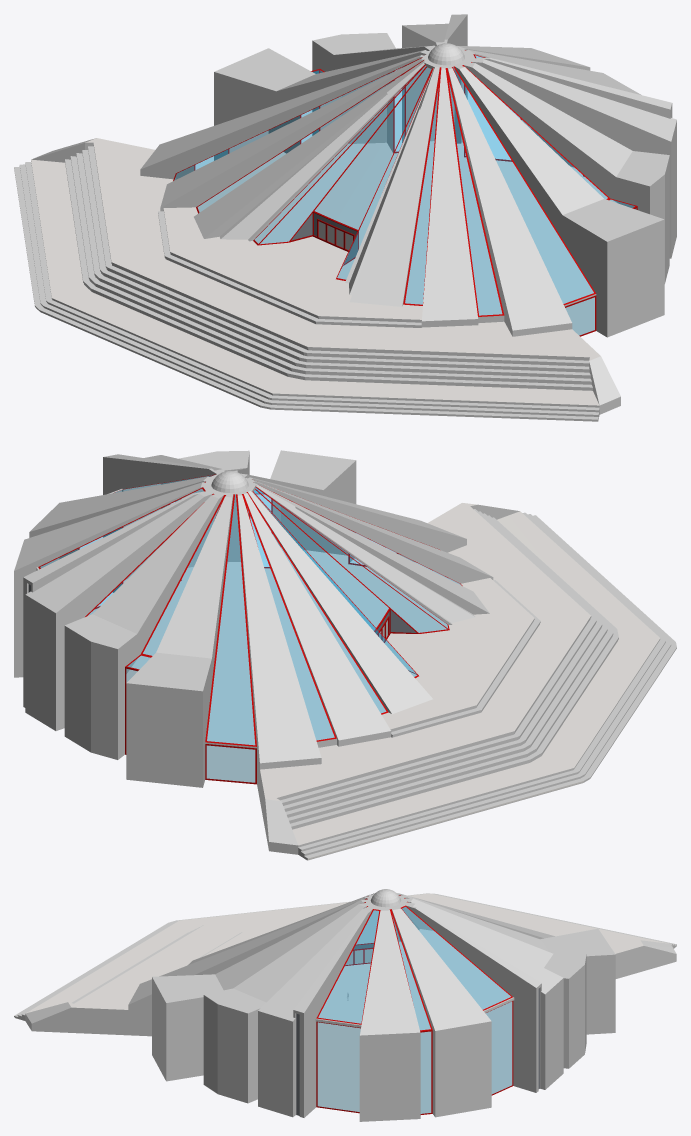
File: hero-scene.glb
3 views of the same model, one above another, from view 1: azimuth 30°, elevation 25°; view 2: azimuth 150°, elevation 25°; view 3: azimuth 270°, elevation 25° (orthographic). The views are drawn at different scales.
Visible parts, largest first — view 1: skp; view 2: skp; view 3: skp.
Boxes of the visible parts, x1=… form: skp: x1=14, y1=14, x2=676, y2=421; skp: x1=14, y1=450, x2=676, y2=860; skp: x1=14, y1=889, x2=676, y2=1121.
Bounding box in the file's own units: 102 × 33.2 × 127.
